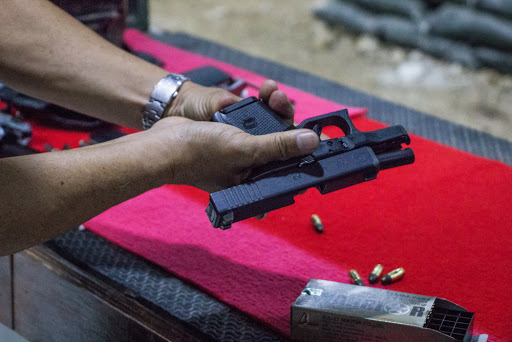gun: (190, 89, 419, 233)
